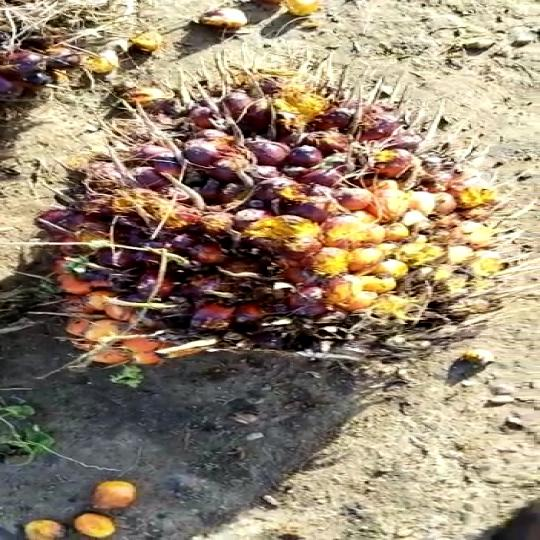masak: (29, 59, 512, 380)
